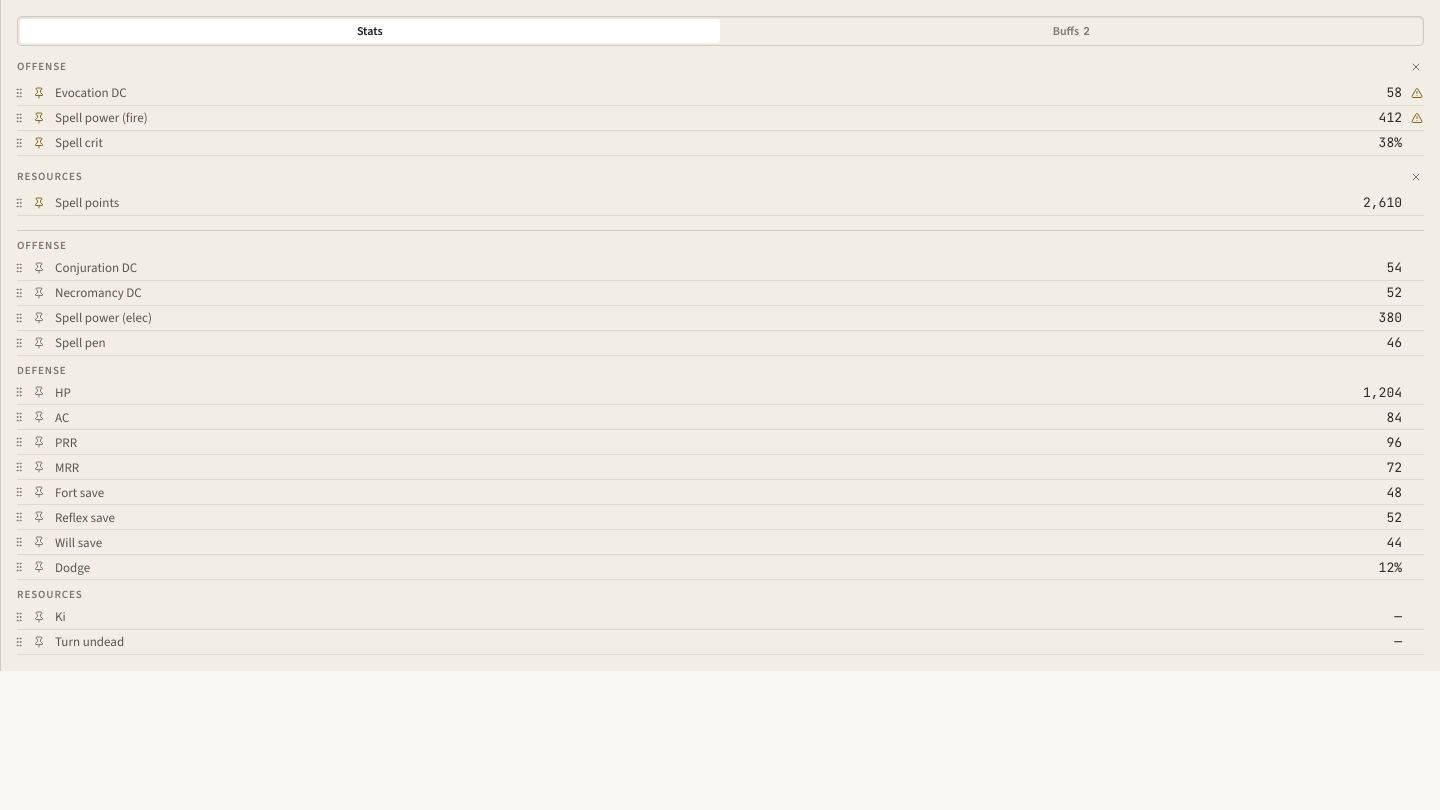
it: StatsPanel › uses the shared ring proxy for every stat and buff row toggle
The image size is (1440, 810).
Check: the button with class "stats-panel-row-toggle" showing "Evocation DC 58" is shown, box [51,81,1424,105]
Step 1. Click the tab "Buffs 2" → (1071, 31), box [722,19,1421,43]
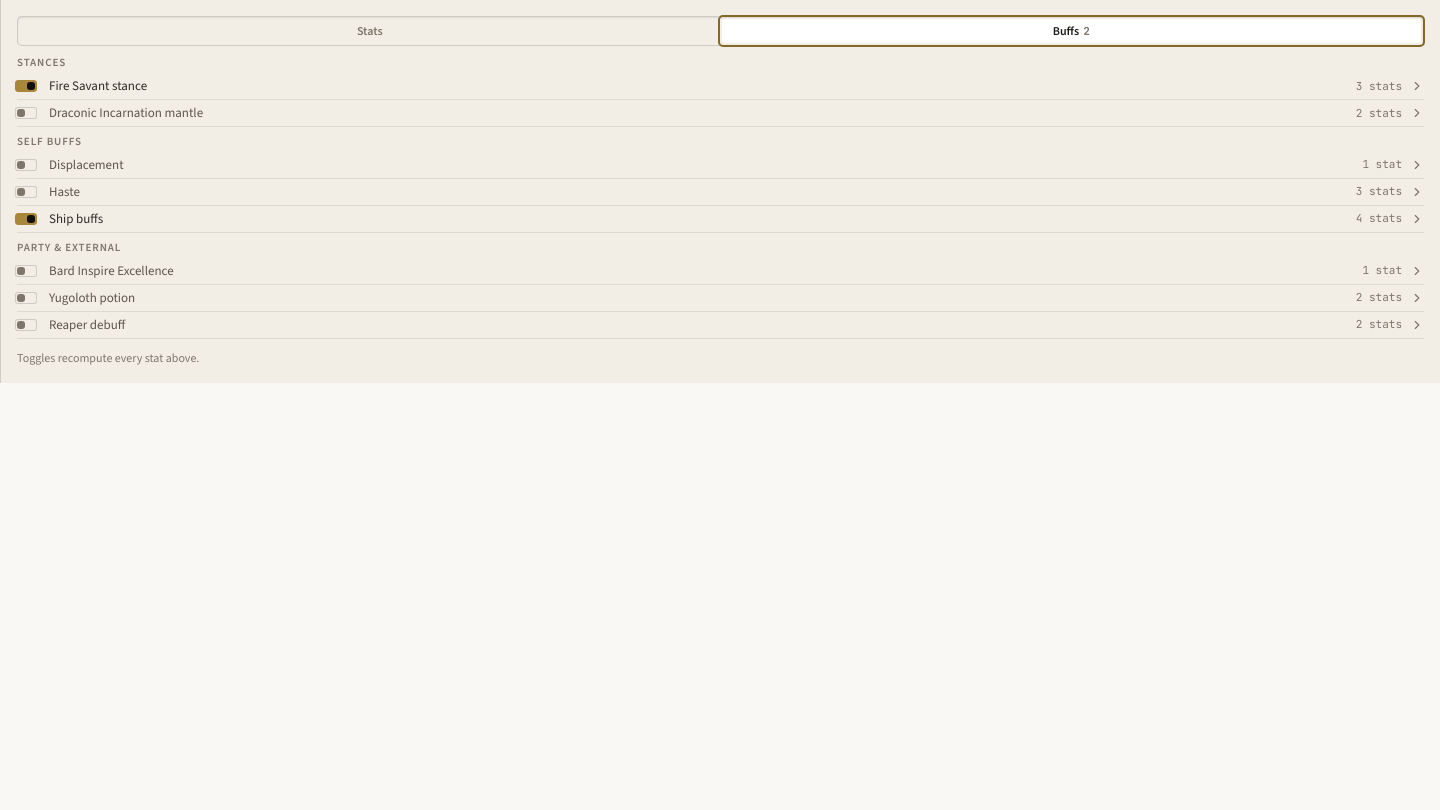
Check: the button with class "stats-panel-row-toggle" showing "Fire Savant stance 3 stats" is shown, box [45,73,1424,99]
